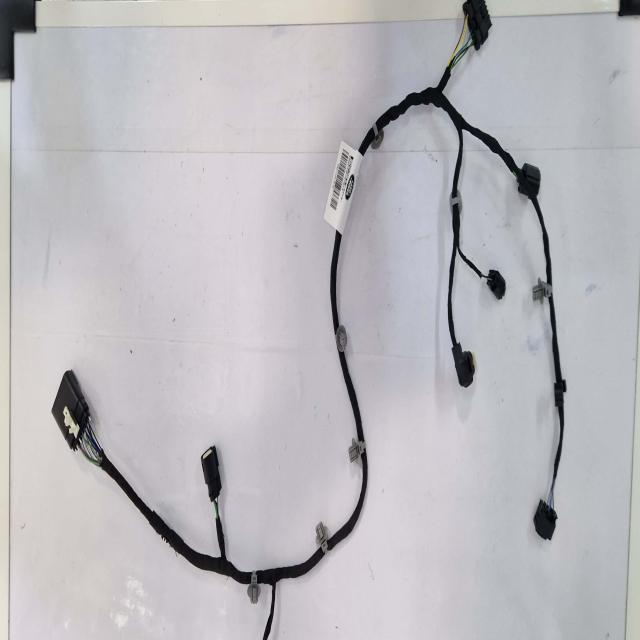Clip: (534, 280, 554, 305), (248, 572, 261, 605), (350, 438, 366, 461), (375, 125, 388, 153), (555, 379, 568, 407), (317, 523, 329, 553), (337, 328, 348, 356), (452, 193, 465, 216)
Connector: (52, 377, 91, 456), (466, 0, 494, 56), (203, 451, 223, 504), (451, 341, 474, 385), (534, 499, 556, 537), (520, 163, 542, 198), (490, 272, 508, 300)
Gape: (83, 418, 113, 470), (445, 38, 478, 70), (214, 494, 226, 523)
Info: (326, 144, 363, 235)
MHEV_N11_Cable: (347, 29, 564, 530), (99, 457, 249, 589), (319, 232, 368, 550), (256, 548, 326, 640)
